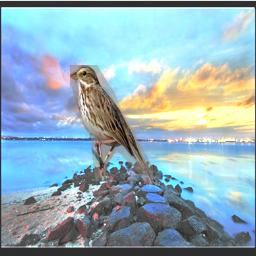Sparrow: (70, 65, 153, 182)
